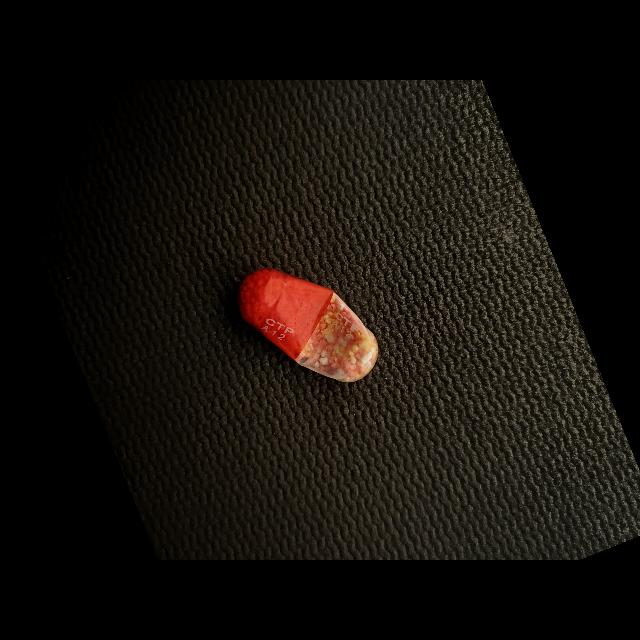Defective Capsule: (237, 268, 378, 382)
